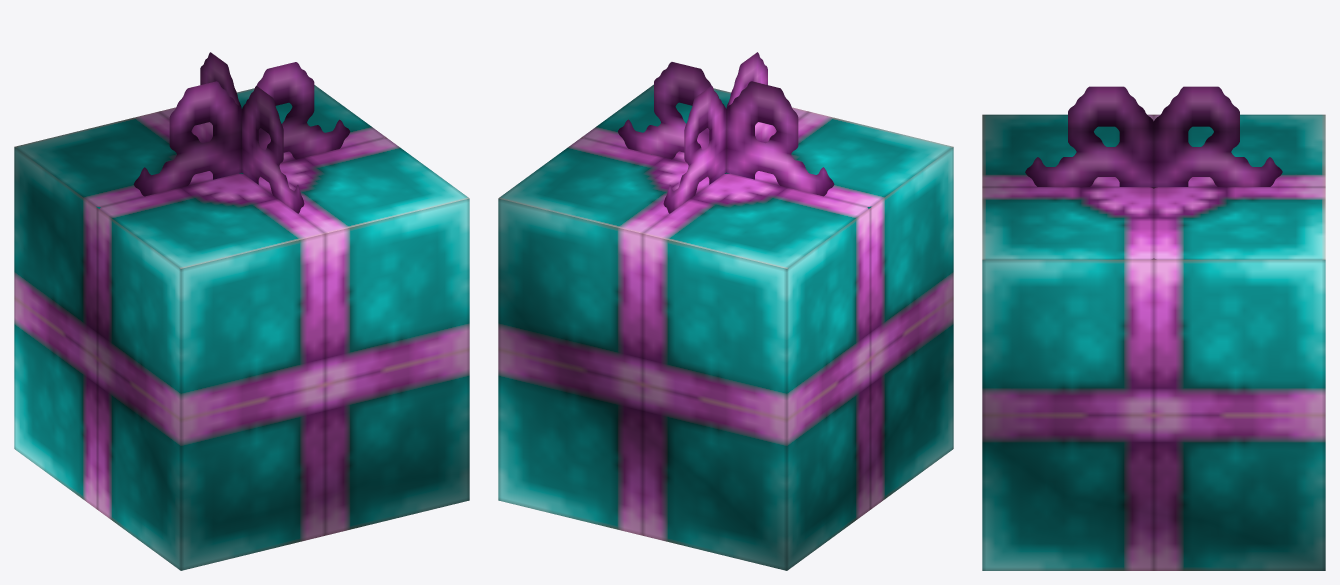
The picture shows the model from 3 angles, left to right: view 1: azimuth 30°, elevation 25°; view 2: azimuth 150°, elevation 25°; view 3: azimuth 270°, elevation 25°; orthographic projection. The views are drawn at different scales.
Visible parts, largest first — view 1: T1L3M002_3; view 2: T1L3M002_3; view 3: T1L3M002_3.
Part boxes in pixels (bbox=[...]): T1L3M002_3: bbox=[14, 52, 469, 570]; T1L3M002_3: bbox=[498, 52, 953, 570]; T1L3M002_3: bbox=[982, 86, 1325, 570].
Bounding box in the file's own units: 1.2 × 1.59 × 1.2.
